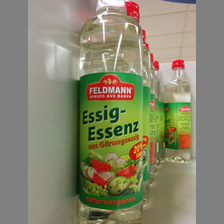vinegar: (74, 1, 145, 223), (164, 59, 197, 163)
